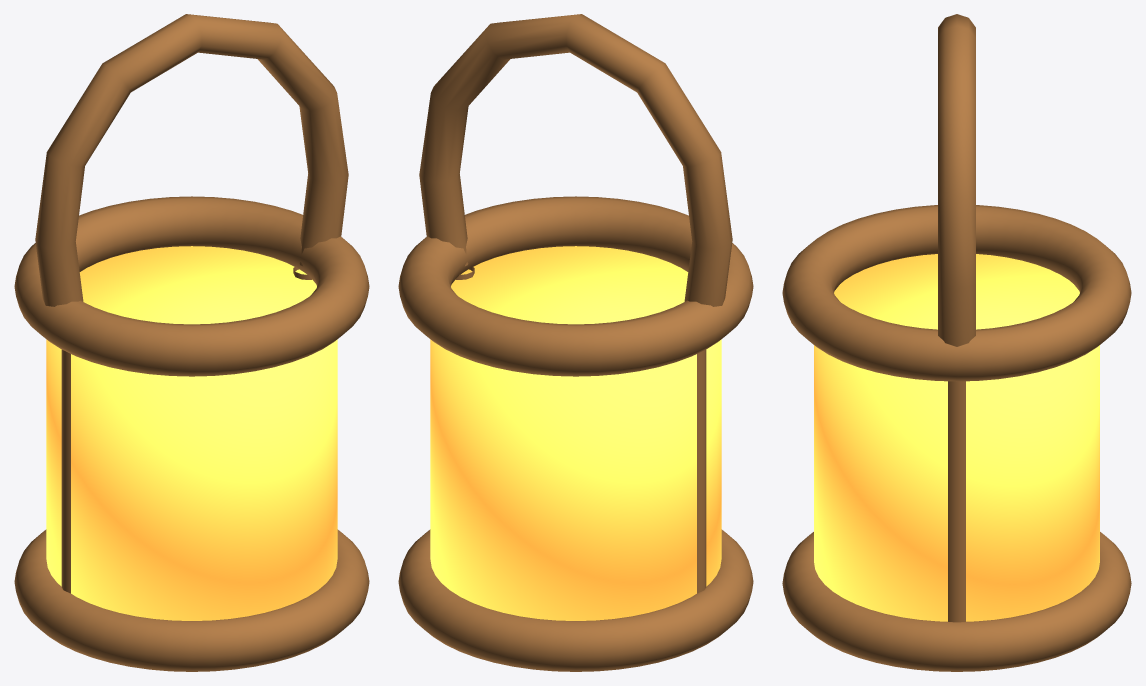
File: lantern.glb
The picture shows the model from 3 angles, left to right: view 1: azimuth 30°, elevation 25°; view 2: azimuth 150°, elevation 25°; view 3: azimuth 270°, elevation 25°; orthographic projection.
Parts seen in each view (by area): view 1: Lantern_Light, Lantern_Top, Lantern_Handle, Lantern_Bottom, Lantern_Frame_-1; view 2: Lantern_Light, Lantern_Top, Lantern_Handle, Lantern_Bottom, Lantern_Frame_-1; view 3: Lantern_Light, Lantern_Top, Lantern_Bottom, Lantern_Handle, Lantern_Frame_1.
Boxes of the visible parts, x1,y1,x2,y2 form: Lantern_Light: (46,246,337,620); Lantern_Top: (14,196,369,376); Lantern_Handle: (35,14,348,306); Lantern_Bottom: (14,529,369,671); Lantern_Frame_-1: (61,350,70,593); Lantern_Light: (430,246,721,620); Lantern_Top: (398,196,753,376); Lantern_Handle: (419,14,732,306); Lantern_Bottom: (398,529,753,671); Lantern_Frame_-1: (697,350,706,593); Lantern_Light: (814,254,1099,621); Lantern_Top: (782,205,1131,381); Lantern_Bottom: (782,532,1131,671); Lantern_Handle: (938,14,975,346); Lantern_Frame_1: (948,381,965,622).
Size of the model in its own units: 0.6114 by 1.12 by 0.61.
